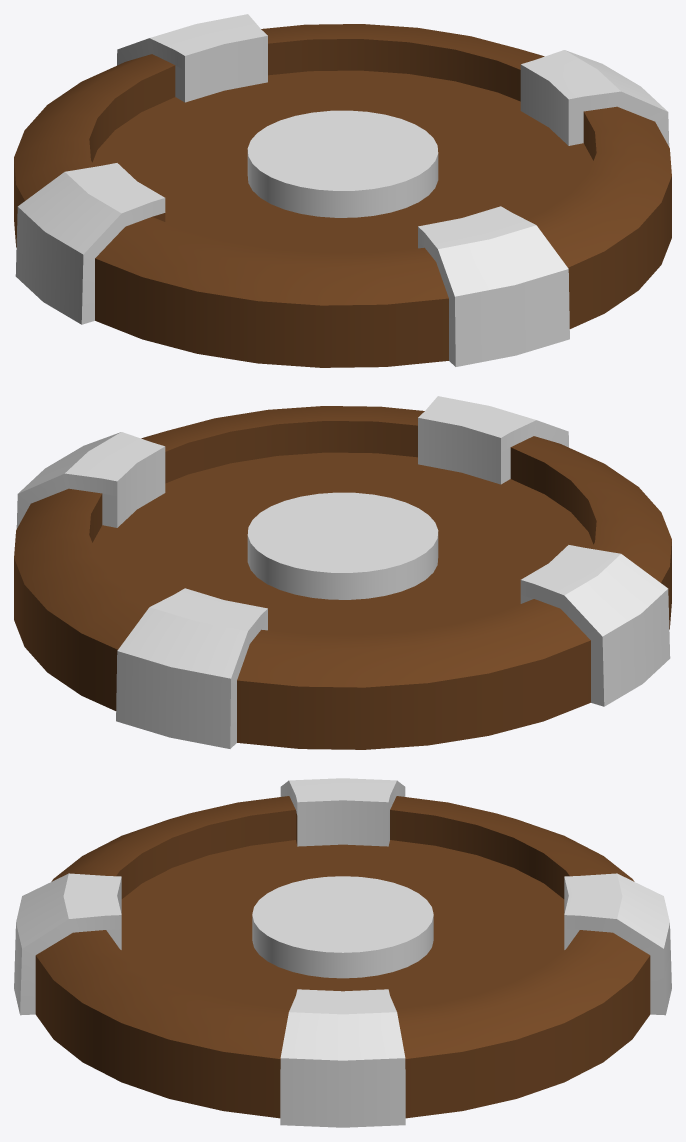
The model's file is Shield.fbx.
The picture shows the model from 3 angles, top to bottom: view 1: azimuth 30°, elevation 25°; view 2: azimuth 150°, elevation 25°; view 3: azimuth 270°, elevation 25°; orthographic projection. The views are drawn at different scales.
Parts seen in each view (by area): view 1: Circle; view 2: Circle; view 3: Circle.
Part boxes in pixels (x1=…): Circle: x1=14, y1=14, x2=671, y2=367; Circle: x1=14, y1=396, x2=671, y2=749; Circle: x1=14, y1=778, x2=671, y2=1127.
Size of the model in its own units: 210 by 32.74 by 210.
